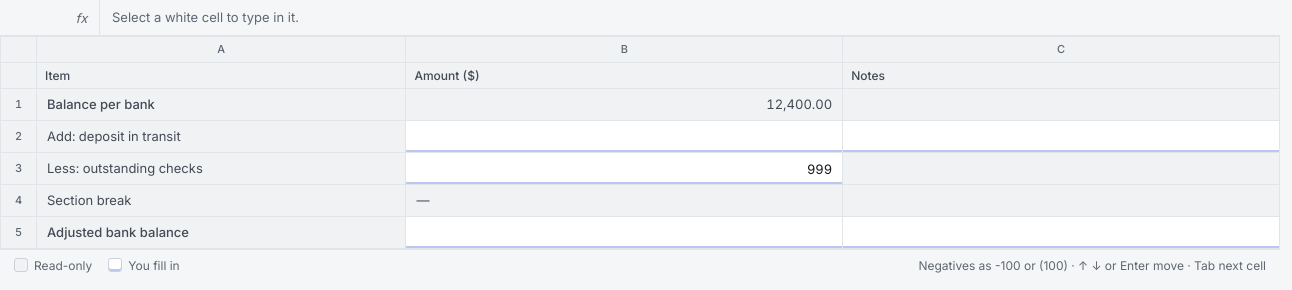
Scenario: SpreadsheetStep › selects the target cell's text so typing replaces it
Click the field named "Add: deposit in transit, Amount ($)" at (624, 136), box top-left (406, 121), bottom-right (842, 152)
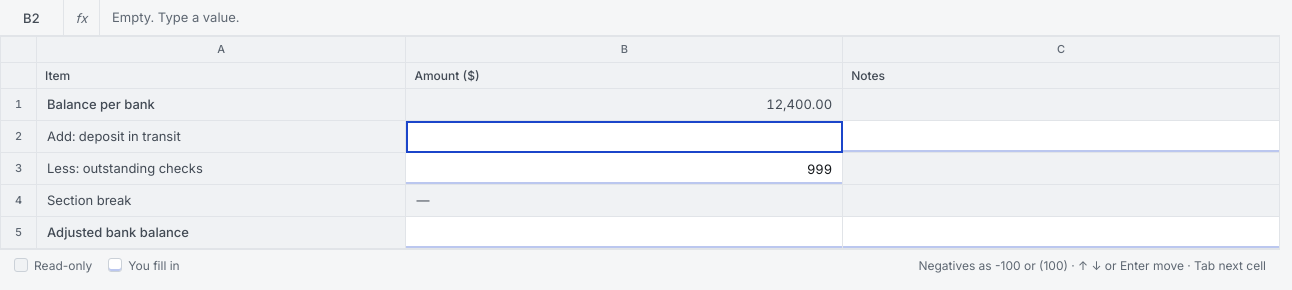
Press Enter
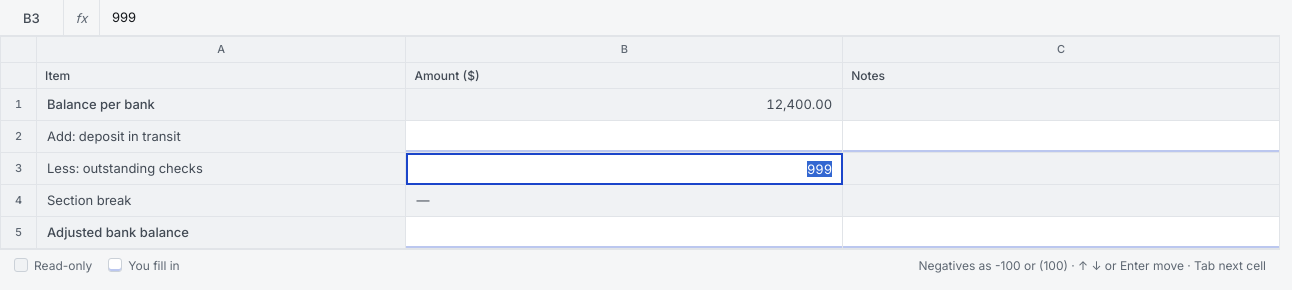
Type keys "42"
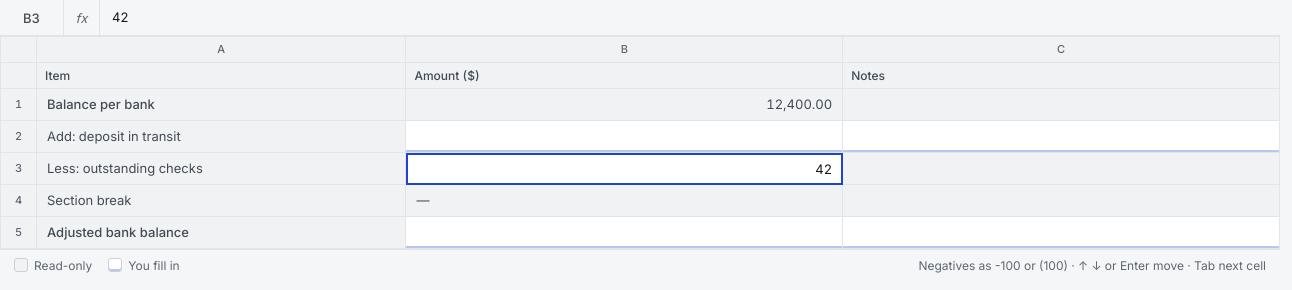
Expected: the field named "Less: outstanding checks, Amount ($)" holds "42", top-left (406, 153), bottom-right (842, 184)
